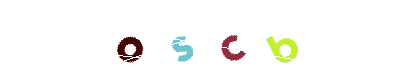B: (243, 0, 323, 80)
C: (170, 0, 250, 80)
O: (132, 0, 212, 80)
S: (141, 0, 221, 80)
